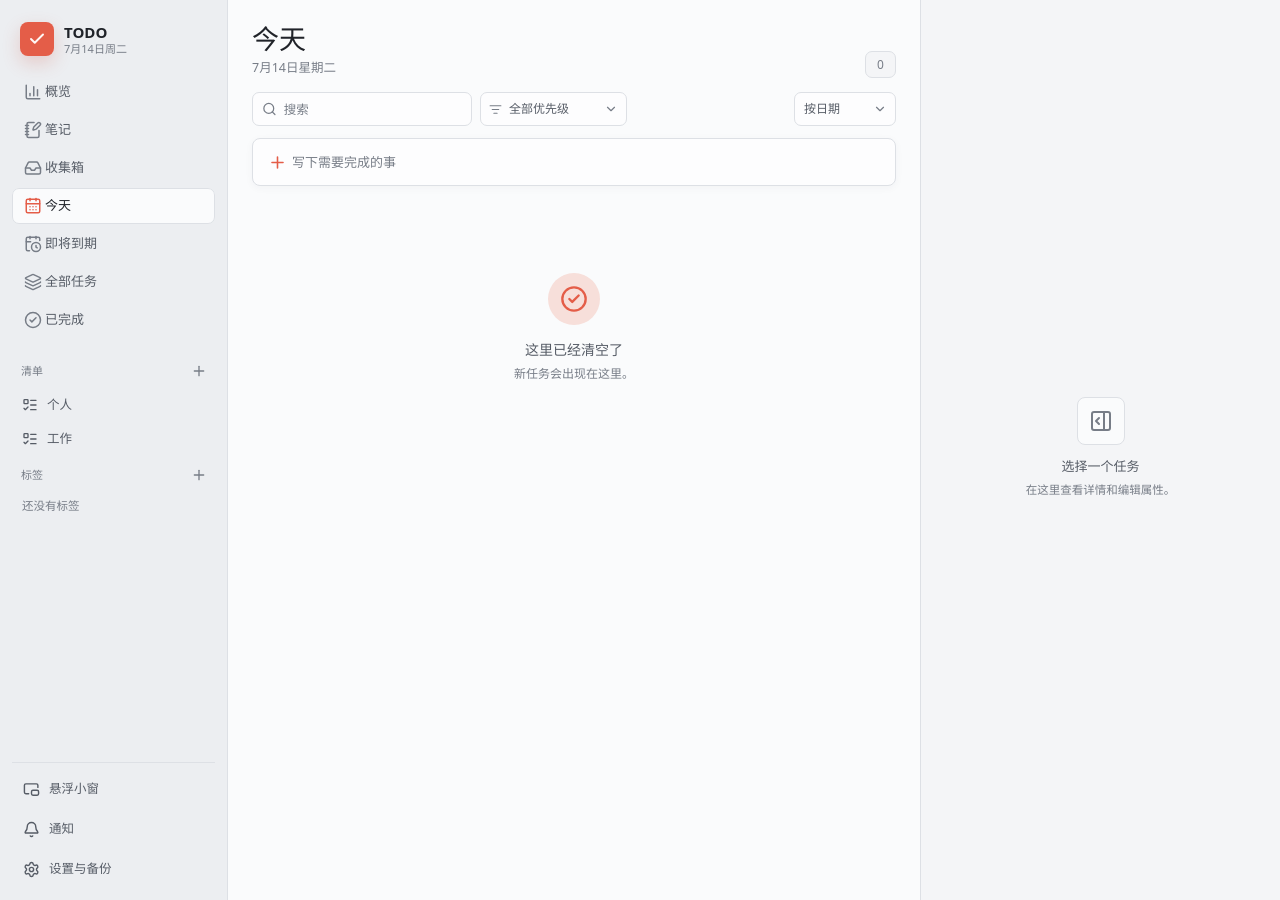
Test: TODO application › opens task actions on right click and deletes after confirmation
Type "右键删除任务" into the field named "添加任务" at (563, 162), box [292,144,834,180]
Then press Enter
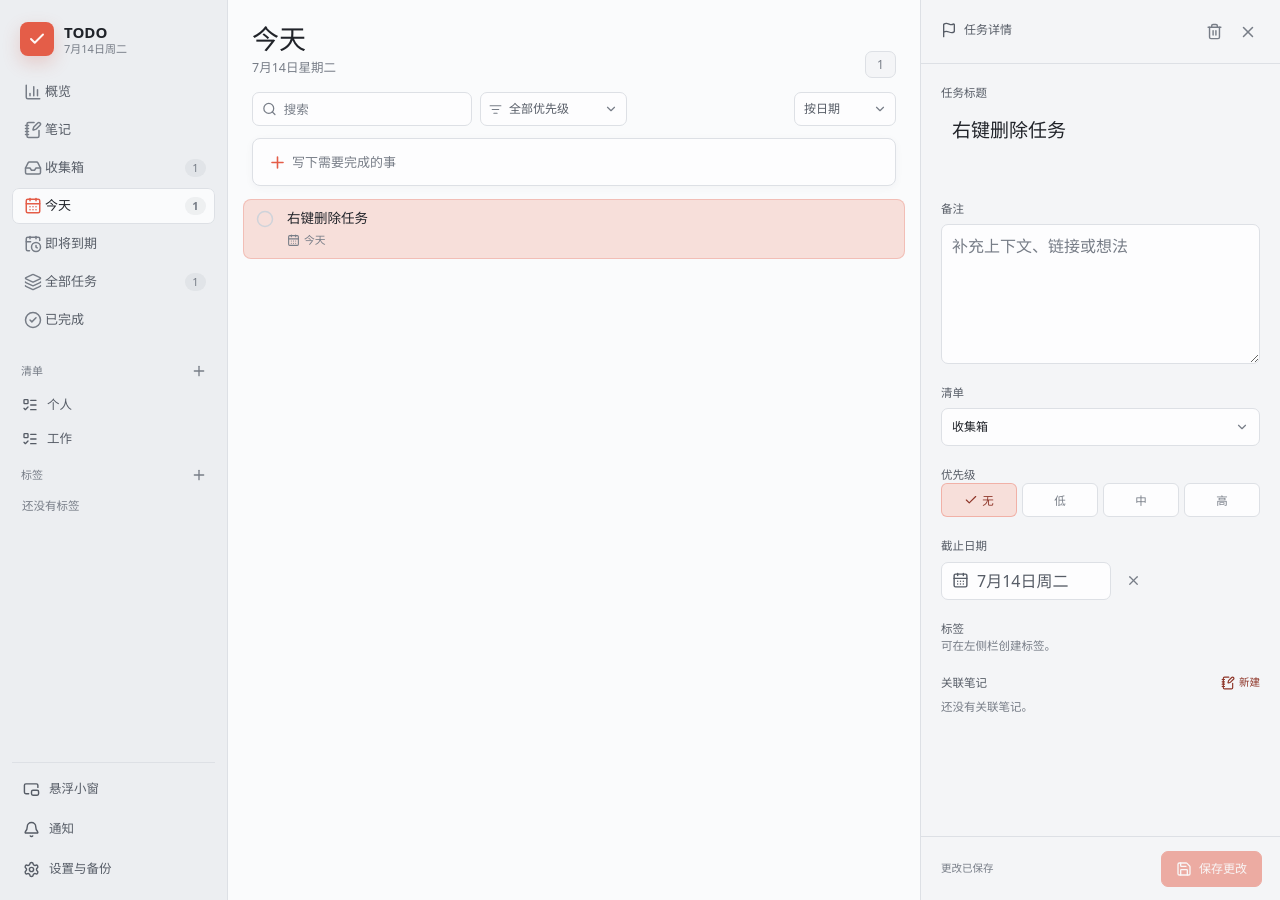
Right-click the list item "右键删除任务" at (574, 229), box [243,199,905,259]
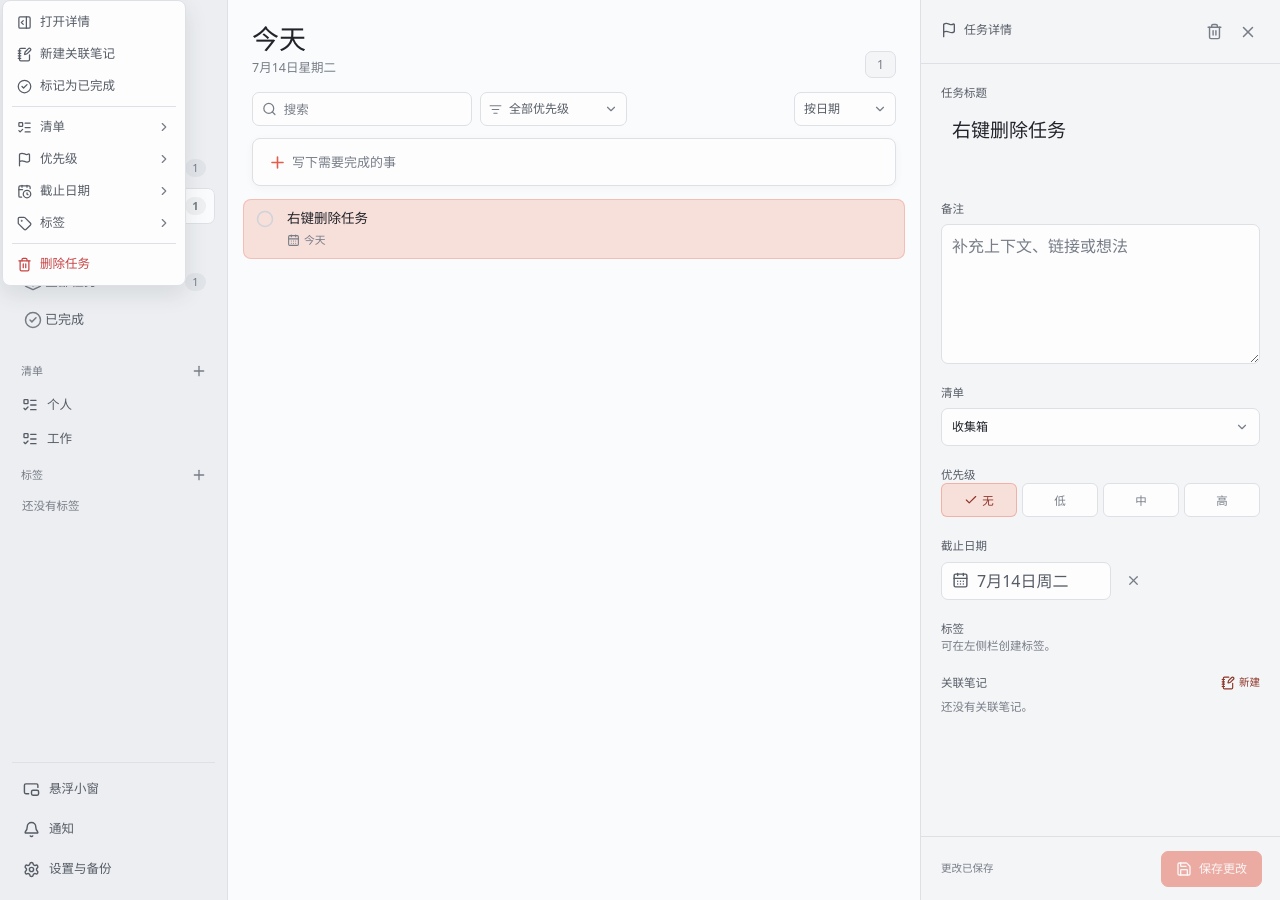
Click the menu item "删除任务" at (54, 263), box [17,255,90,272]
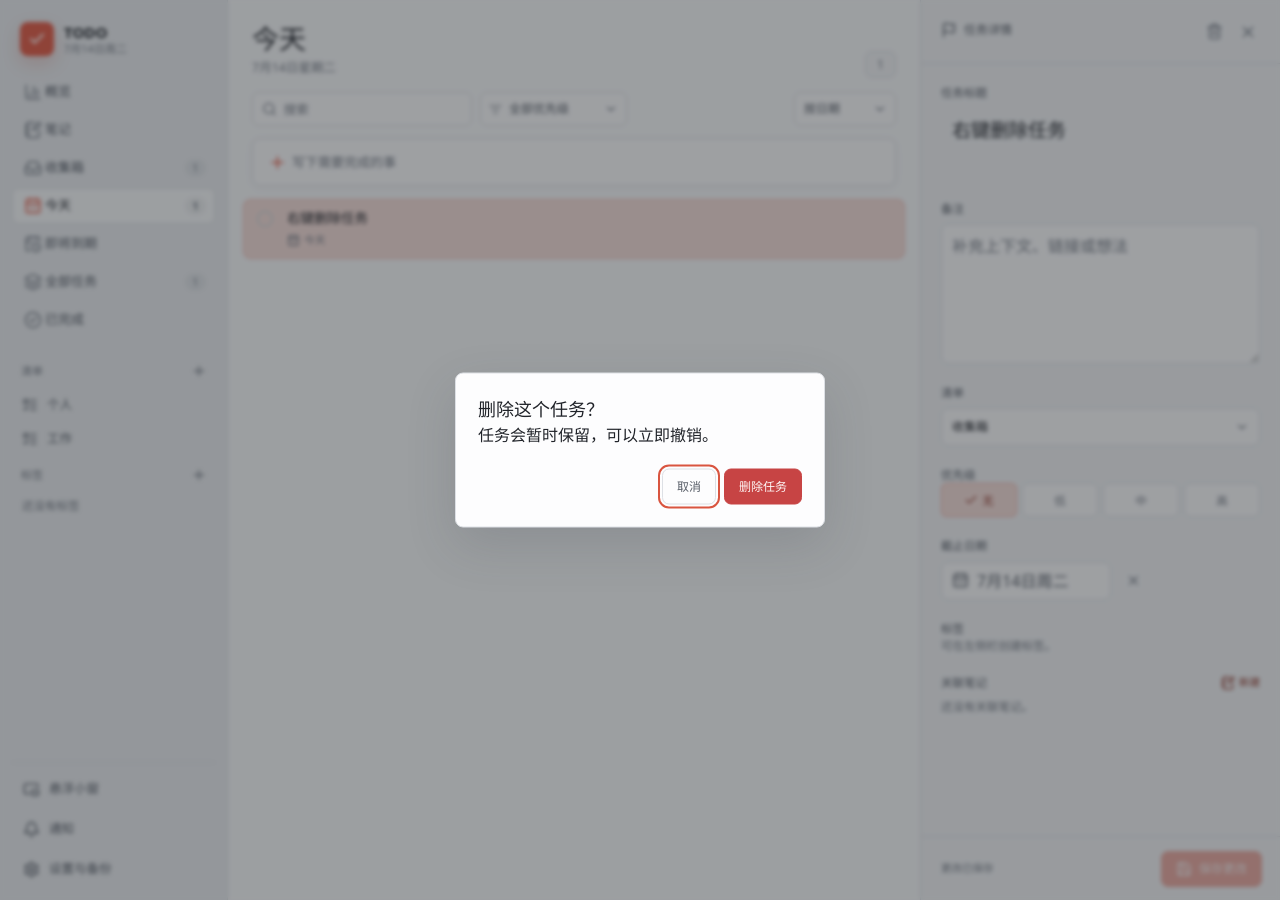
Expected: the heading "删除这个任务？" is shown, [478,396,604,420]
Click the button "删除任务" at (763, 486), box [724,468,802,504]
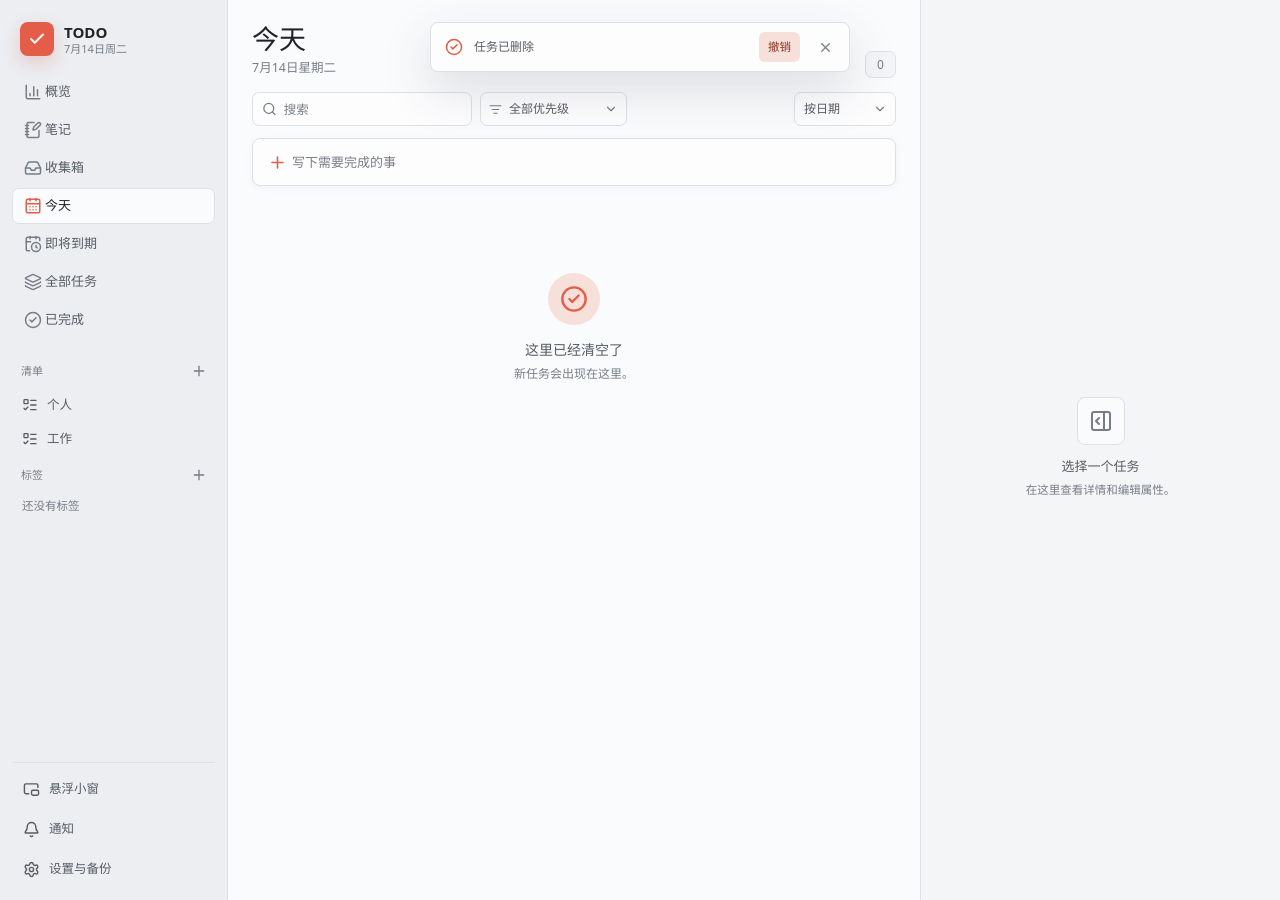
Expected: the text "任务已删除" is shown, [474,38,534,55]
Expected: the text "右键删除任务" is not shown
